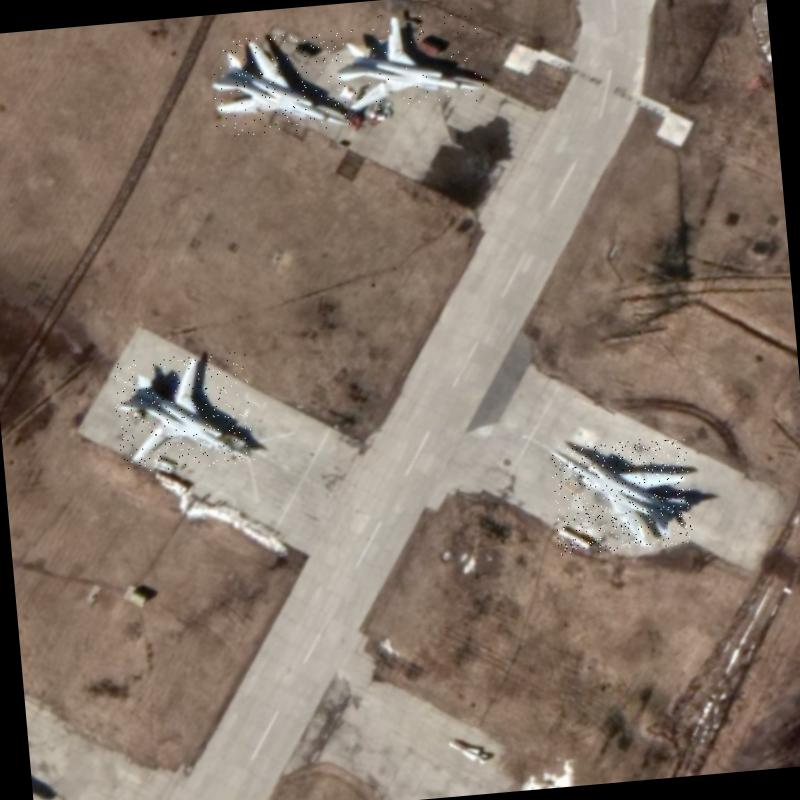A12: (112, 350, 254, 474), (550, 436, 694, 556), (332, 7, 485, 113), (207, 30, 351, 138)
